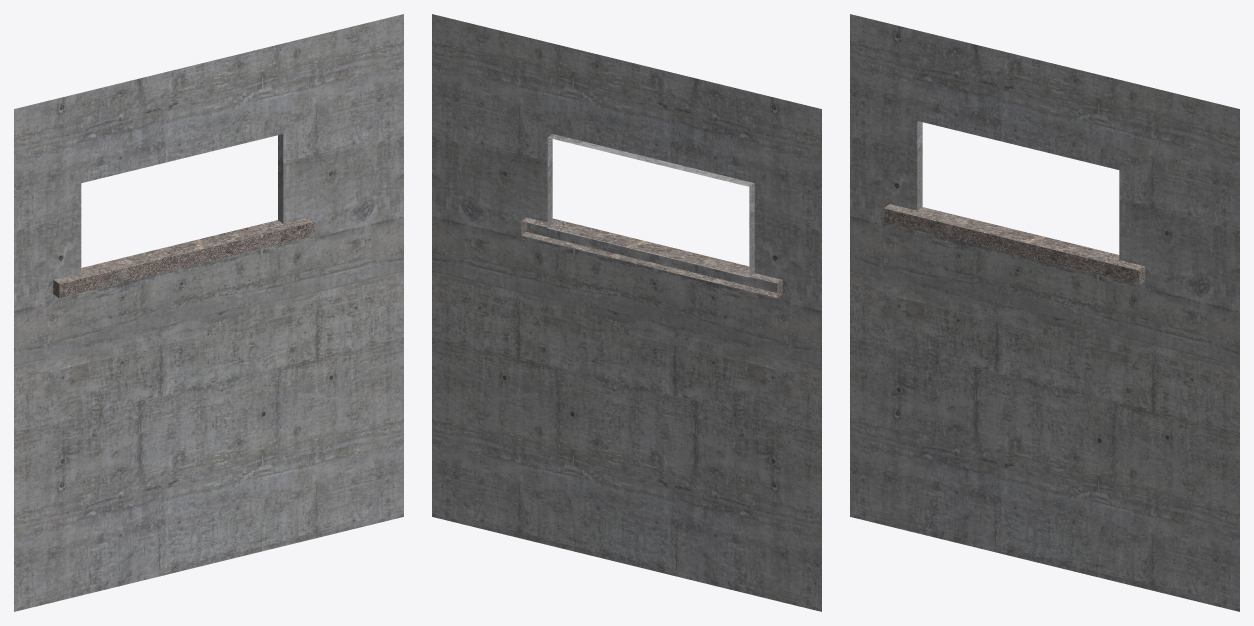
File: BUILDING_caveInteriorSingleWindow_02.FBX
3 views of the same model, side by side, from view 1: azimuth 30°, elevation 25°; view 2: azimuth 150°, elevation 25°; view 3: azimuth 330°, elevation 25° (orthographic).
Parts seen in each view (by area): view 1: BUILDING_caveInteriorSingleWindow_02; view 2: BUILDING_caveInteriorSingleWindow_02; view 3: BUILDING_caveInteriorSingleWindow_02.
Boxes of the visible parts, left/top/right/bottom form: BUILDING_caveInteriorSingleWindow_02: left=14, top=14, right=403, bottom=611; BUILDING_caveInteriorSingleWindow_02: left=432, top=14, right=821, bottom=611; BUILDING_caveInteriorSingleWindow_02: left=850, top=14, right=1239, bottom=611.
Bounding box in the file's own units: 3.2 × 3.94 × 0.1549.
2 materials, 2 textured.
